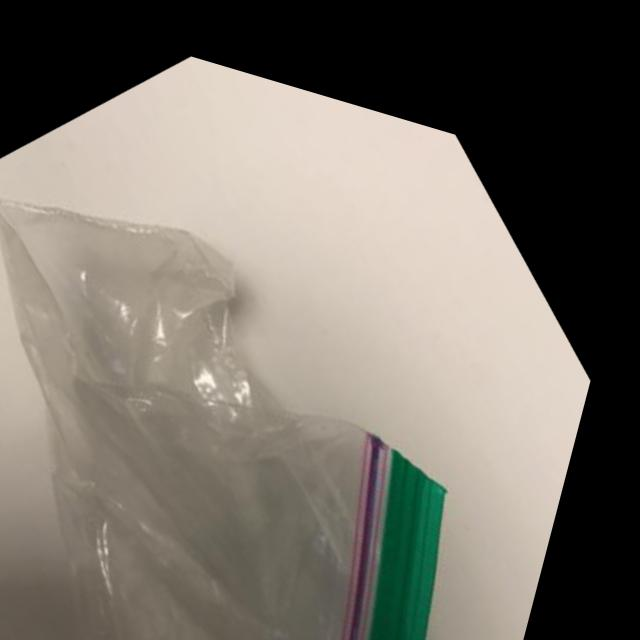trash: (0, 3, 639, 640)
